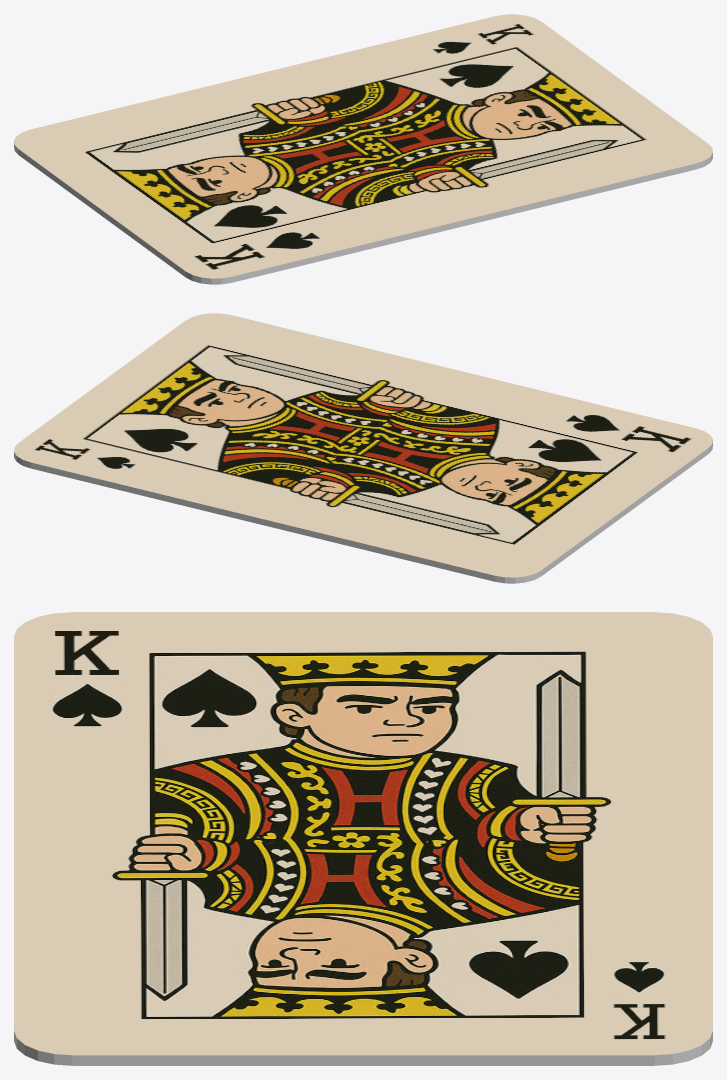
The model's file is card.fbx.
3 renders of one model, top to bottom at view 1: azimuth 30°, elevation 25°; view 2: azimuth 150°, elevation 25°; view 3: azimuth 270°, elevation 25°, orthographic. The views are drawn at different scales.
Parts seen in each view (by area): view 1: Face, Card; view 2: Face, Card; view 3: Face, Card.
Part boxes in pixels (left/top/right/bottom): Face: left=14, top=14, right=712, bottom=278; Card: left=14, top=142, right=712, bottom=284; Face: left=14, top=313, right=712, bottom=577; Card: left=14, top=441, right=712, bottom=583; Face: left=14, top=612, right=712, bottom=1055; Card: left=14, top=1031, right=712, bottom=1065.
Bounding box in the file's own units: 180 × 2 × 120.
1 material, 1 textured.
